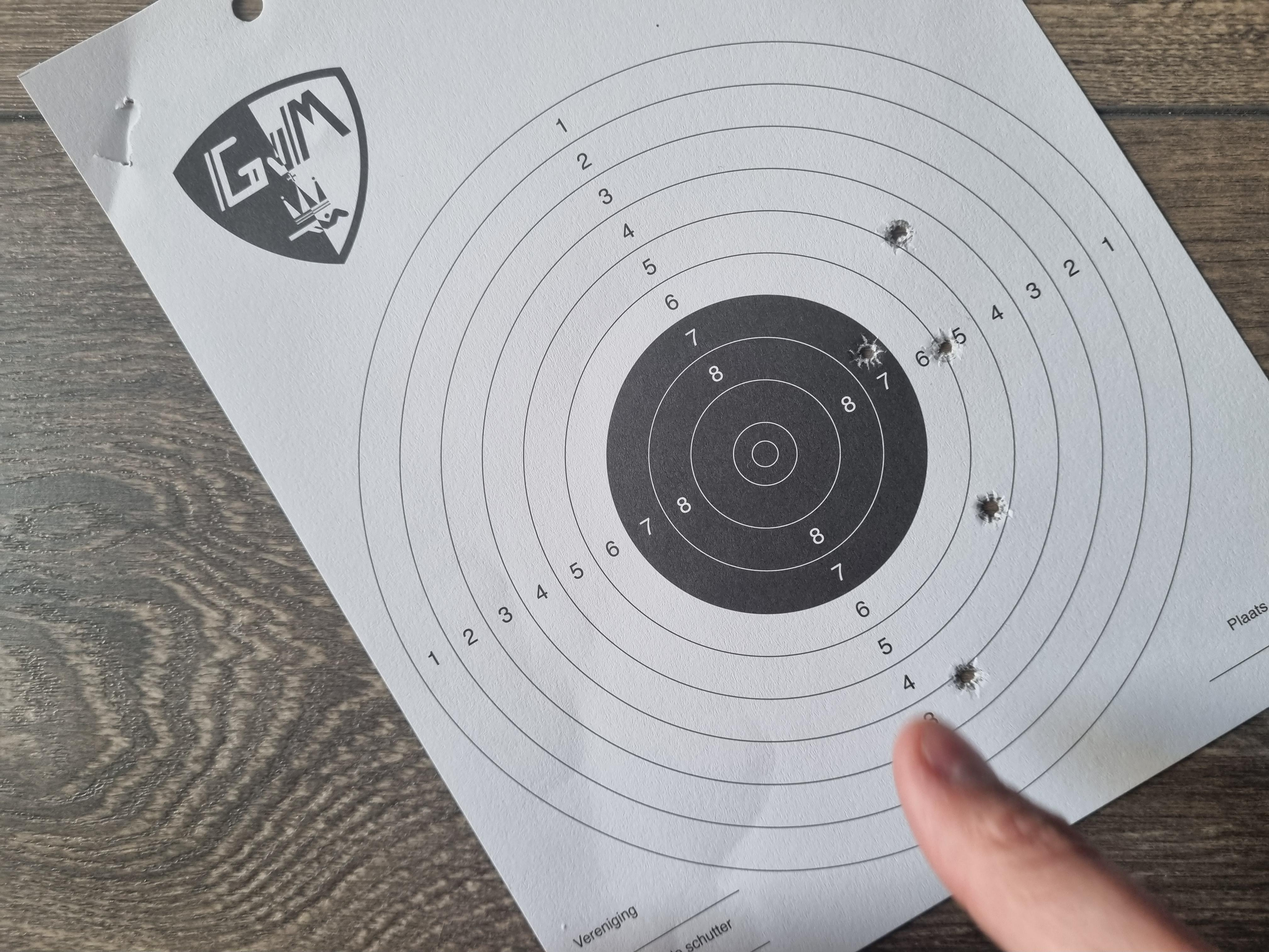hole: (564, 725, 617, 758), (343, 710, 396, 740), (785, 692, 829, 722), (935, 660, 980, 688), (780, 639, 823, 665)
